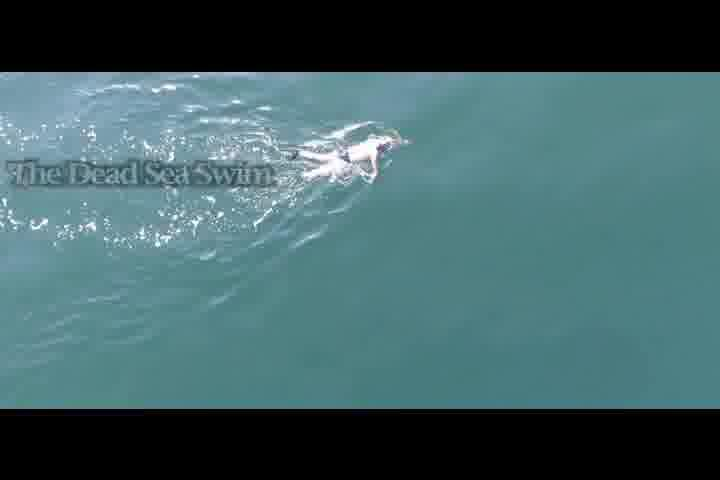human: (287, 132, 402, 184)
